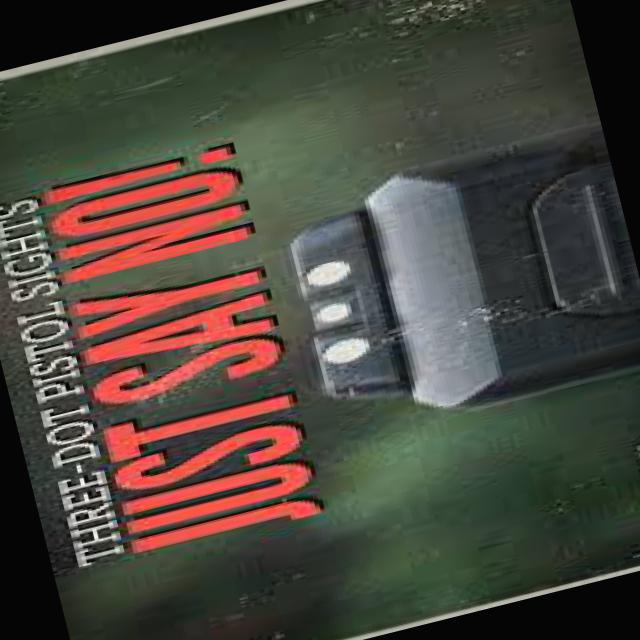handgun: (262, 123, 639, 454)
